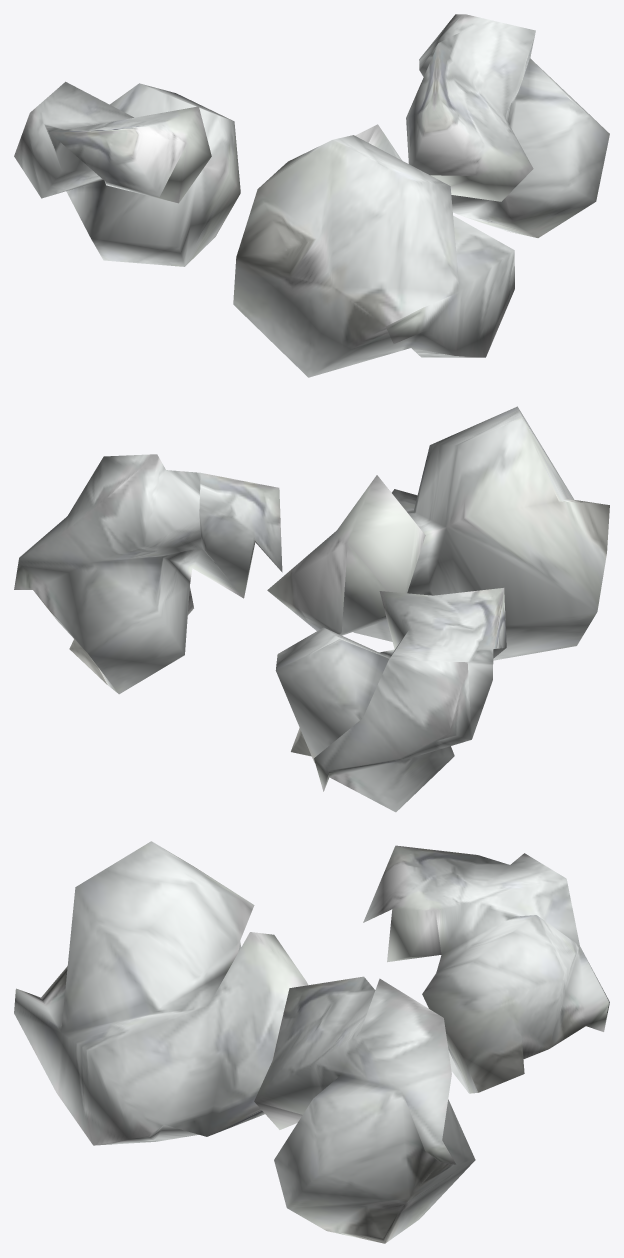
The model's file is ShaShouJia_01_zhituan_01.FBX.
The picture shows the model from 3 angles, top to bottom: view 1: azimuth 30°, elevation 25°; view 2: azimuth 150°, elevation 25°; view 3: azimuth 270°, elevation 25°; orthographic projection. The views are drawn at different scales.
Visible parts, largest first — view 1: ShaShouJia_01_zhituan_01; view 2: ShaShouJia_01_zhituan_01; view 3: ShaShouJia_01_zhituan_01.
Boxes of the visible parts, x1,y1,x2,y2 form: ShaShouJia_01_zhituan_01: (14,14,609,377); ShaShouJia_01_zhituan_01: (14,406,609,812); ShaShouJia_01_zhituan_01: (14,841,609,1243).
Bounding box in the file's own units: 163 × 78.04 × 165.
